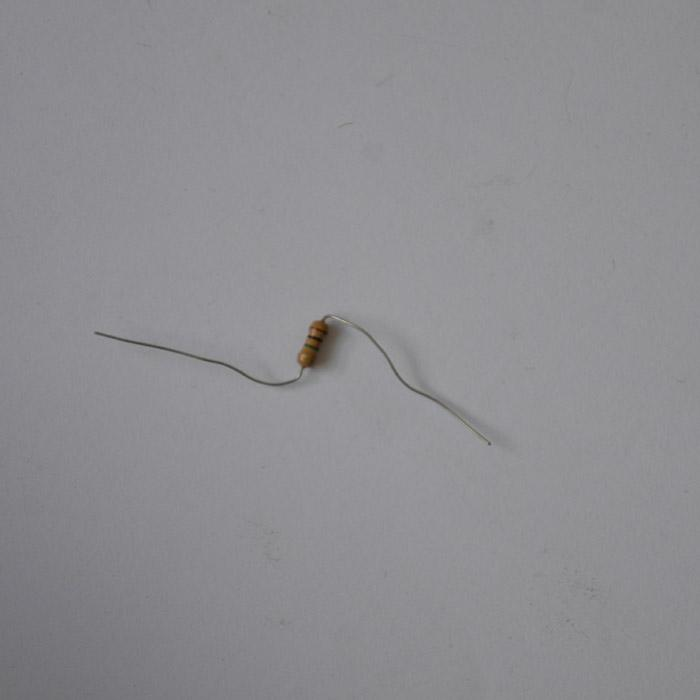resistor: (297, 318, 329, 368)
